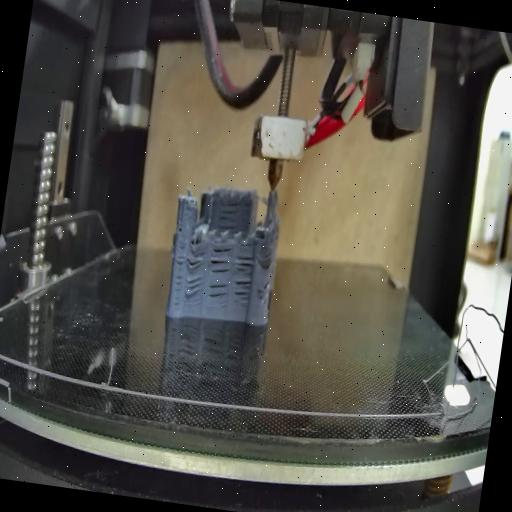cracks: (231, 254, 255, 304), (170, 243, 188, 308), (214, 196, 244, 234), (207, 244, 233, 276), (185, 247, 209, 276), (208, 282, 230, 304), (184, 276, 202, 298), (262, 252, 274, 273), (178, 218, 186, 236), (263, 280, 273, 294)
